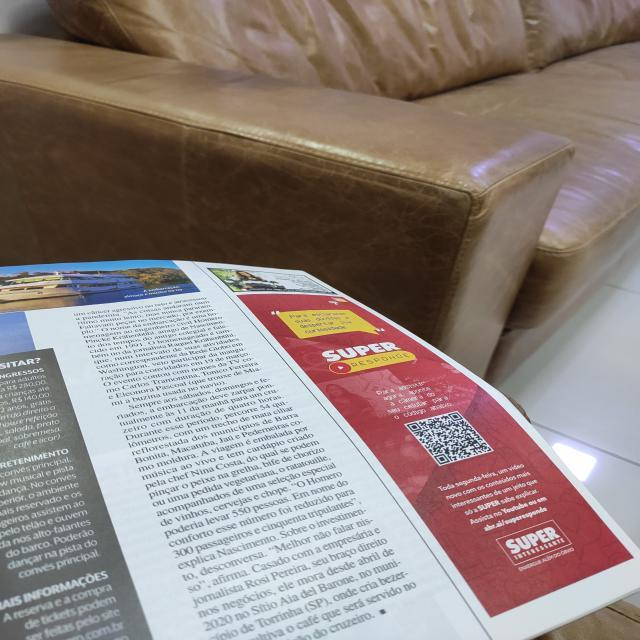qr_code: (407, 412, 491, 465)
